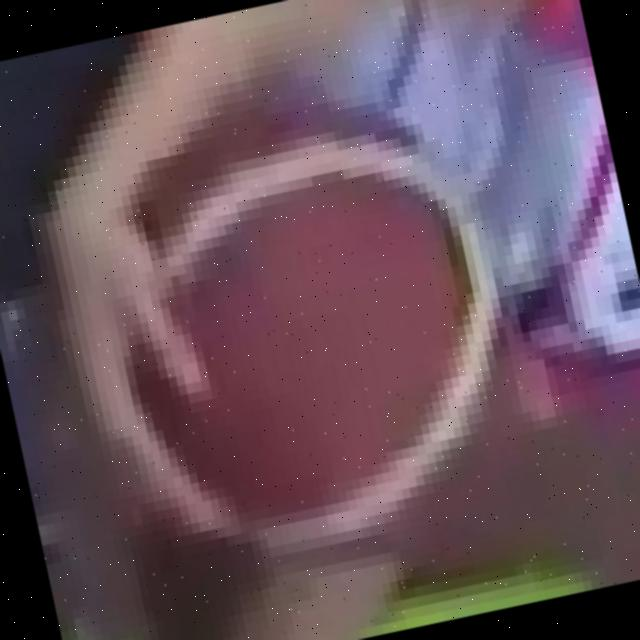ball: (9, 8, 580, 640)
